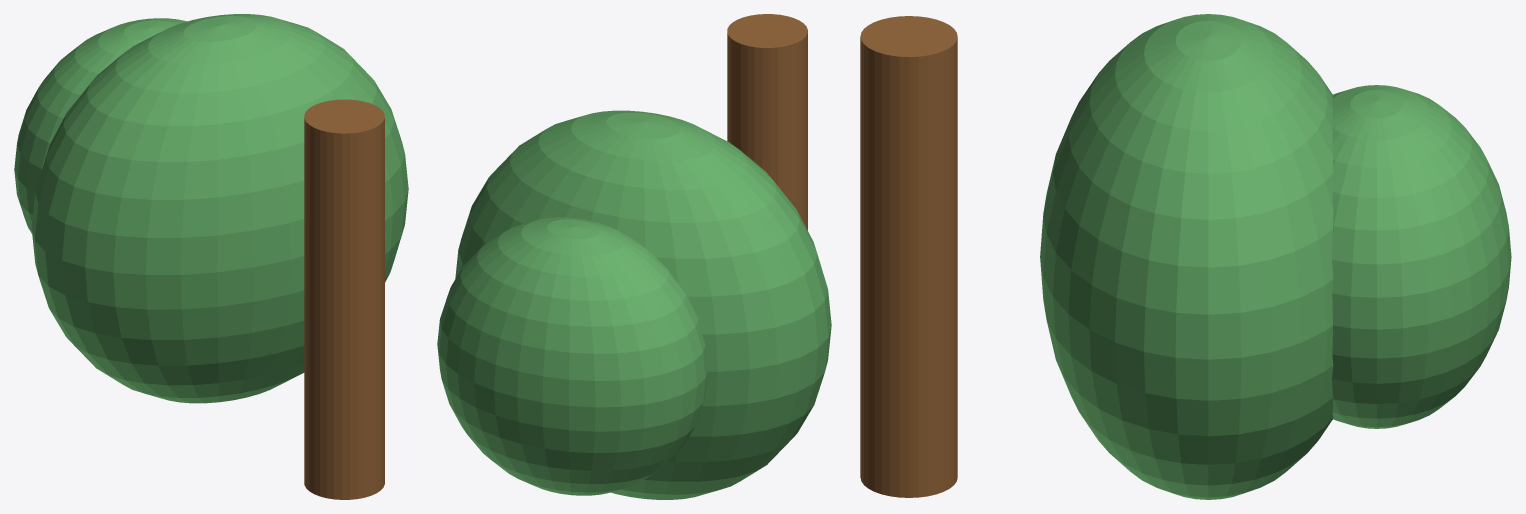
File: tree.glb
3 renders of one model, left to right at view 1: azimuth 30°, elevation 25°; view 2: azimuth 150°, elevation 25°; view 3: azimuth 270°, elevation 25°, orthographic. The views are drawn at different scales.
Visible parts, largest first — view 1: Leaves Lower, Trunk, Leaves Top; view 2: Leaves Lower, Leaves Top, Trunk; view 3: Leaves Lower, Leaves Top, Trunk.
Boxes of the visible parts, box(x1,y1,x2,y2) form: Leaves Lower: box(31, 14, 408, 403); Trunk: box(304, 99, 384, 499); Leaves Top: box(14, 18, 186, 233); Leaves Lower: box(455, 110, 831, 499); Leaves Top: box(437, 217, 707, 495); Trunk: box(727, 14, 807, 230); Leaves Lower: box(1040, 14, 1333, 499); Leaves Top: box(1332, 85, 1511, 428); Trunk: box(860, 16, 957, 497).
Size of the model in its own units: 1.3 by 1.3 by 1.74.
